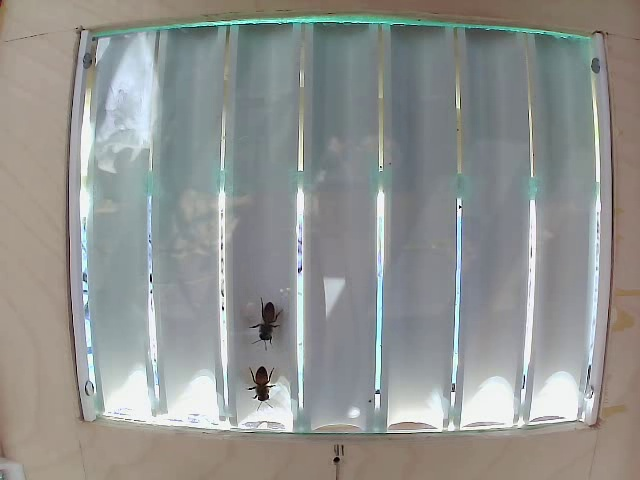bee: (248, 289, 296, 345), (242, 347, 280, 399)
